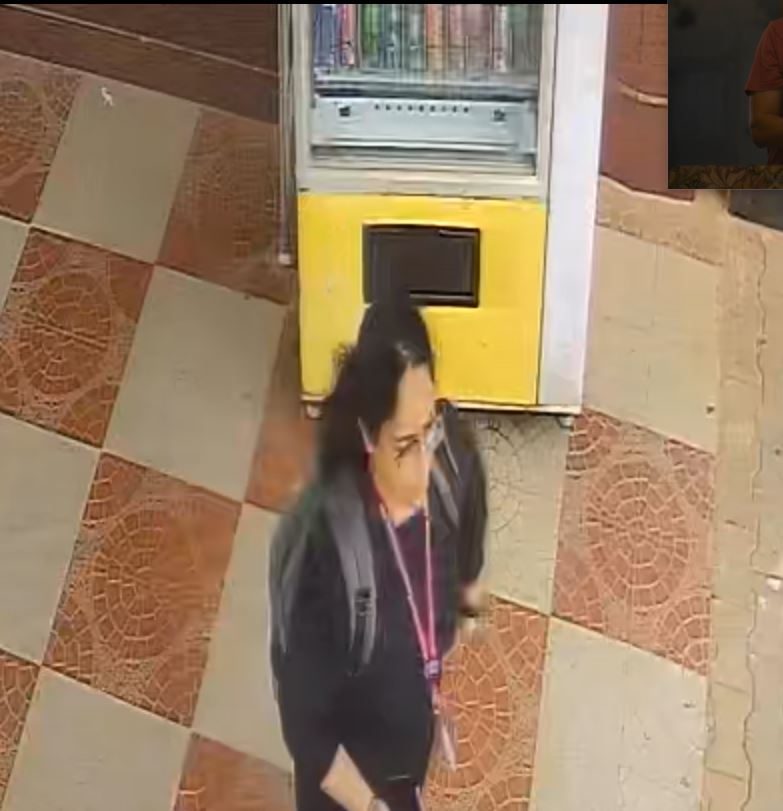intruder: (247, 287, 496, 811)
